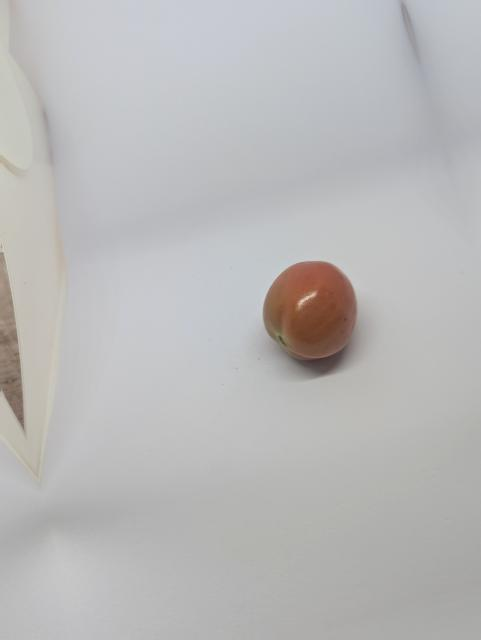turning: (257, 256, 365, 364)
